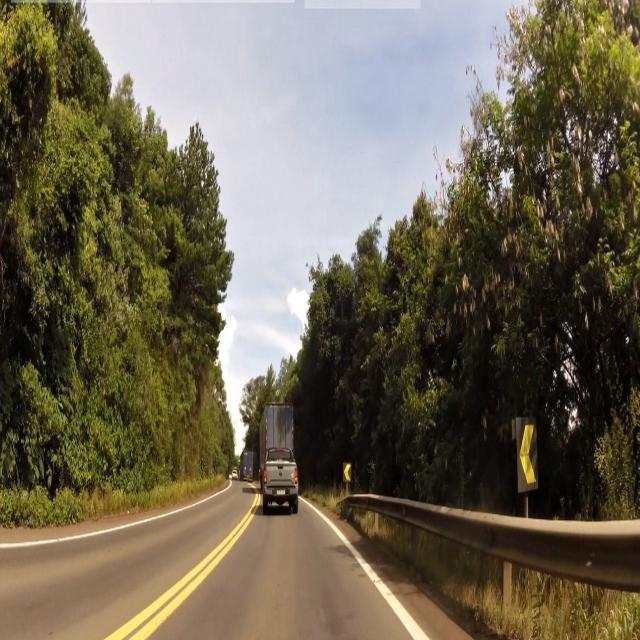Del: (513, 413, 541, 495), (342, 463, 356, 487)
